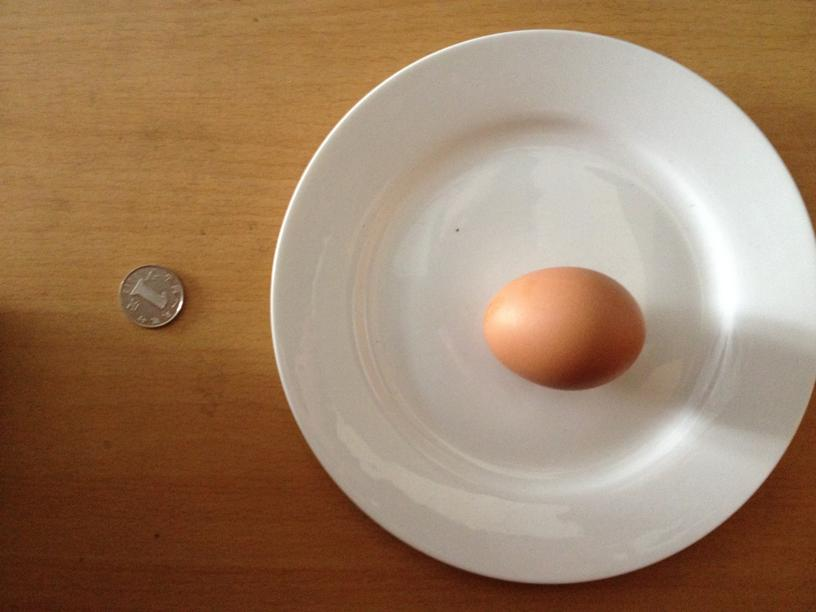coin: (115, 262, 187, 329)
egg: (479, 265, 648, 390)
